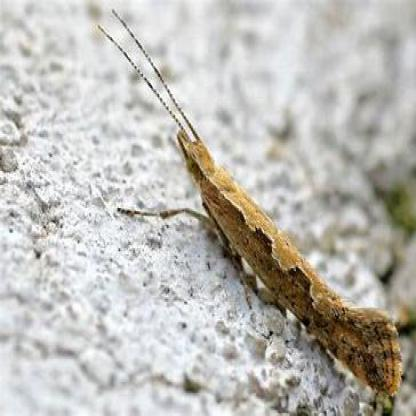plutella: (92, 3, 403, 401)
